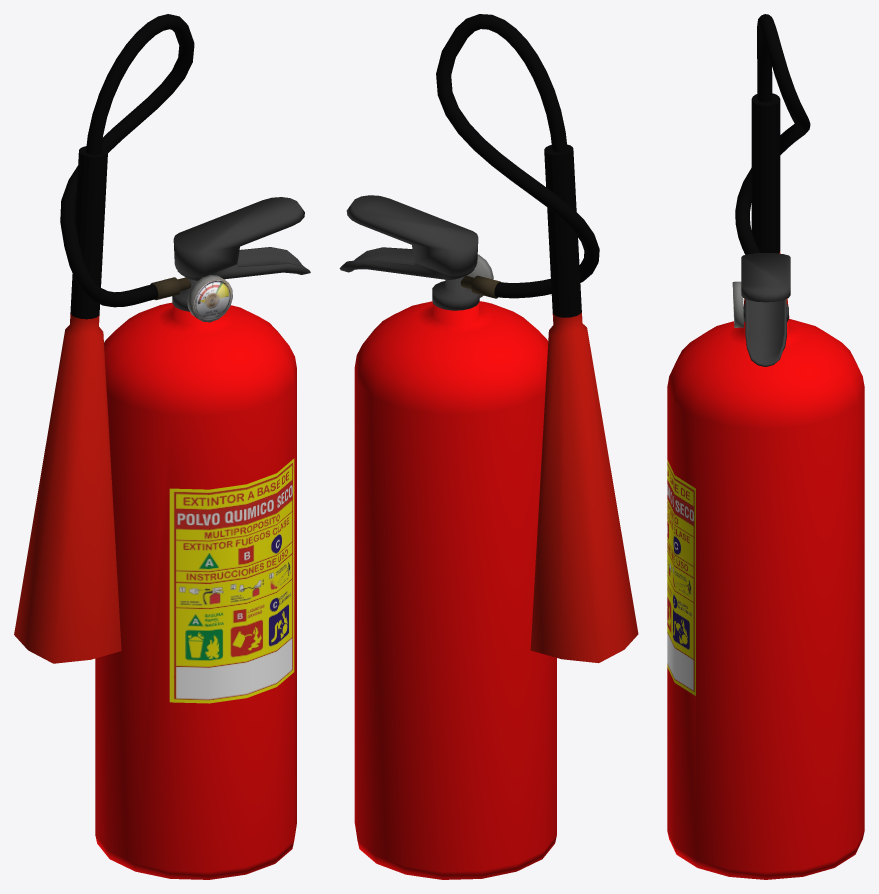
The model's file is extintor.obj.
3 renders of one model, left to right at view 1: azimuth 30°, elevation 25°; view 2: azimuth 150°, elevation 25°; view 3: azimuth 270°, elevation 25°, orthographic. The views are drawn at different scales.
Parts seen in each view (by area): view 1: Extintor_Cylinder.011; view 2: Extintor_Cylinder.011; view 3: Extintor_Cylinder.011.
Boxes of the visible parts, left/top/right/bottom form: Extintor_Cylinder.011: left=14, top=14, right=310, bottom=879; Extintor_Cylinder.011: left=339, top=14, right=638, bottom=879; Extintor_Cylinder.011: left=667, top=14, right=864, bottom=879.
Size of the model in its own units: 0.1267 by 0.3599 by 0.08.
